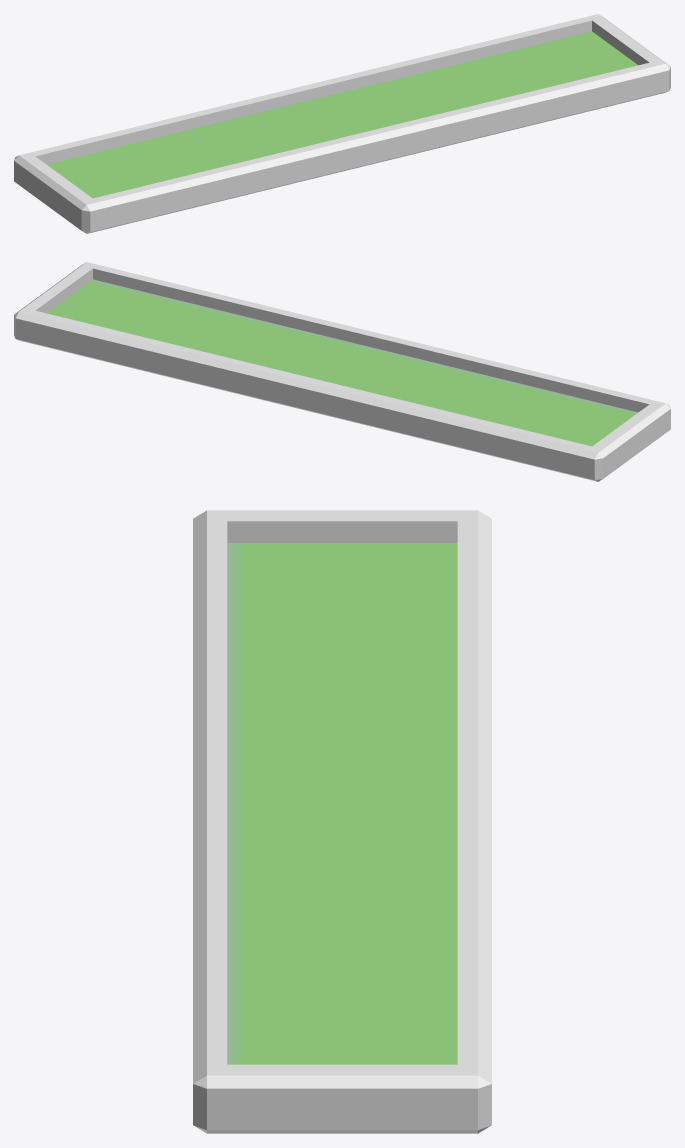
File: bed_4_world_ap_0_lev1.glb
3 renders of one model, top to bottom at view 1: azimuth 30°, elevation 25°; view 2: azimuth 150°, elevation 25°; view 3: azimuth 270°, elevation 25°, orthographic. The views are drawn at different scales.
Parts seen in each view (by area): view 1: bed_4_world_ap_0_lev1; view 2: bed_4_world_ap_0_lev1; view 3: bed_4_world_ap_0_lev1.
Boxes of the visible parts, x1,y1,x2,y2 form: bed_4_world_ap_0_lev1: (14, 14, 670, 233); bed_4_world_ap_0_lev1: (14, 262, 670, 481); bed_4_world_ap_0_lev1: (193, 510, 491, 1133).
Bounding box in the file's own units: 3.44 × 0.1615 × 0.7545.
1 material, 1 textured.
